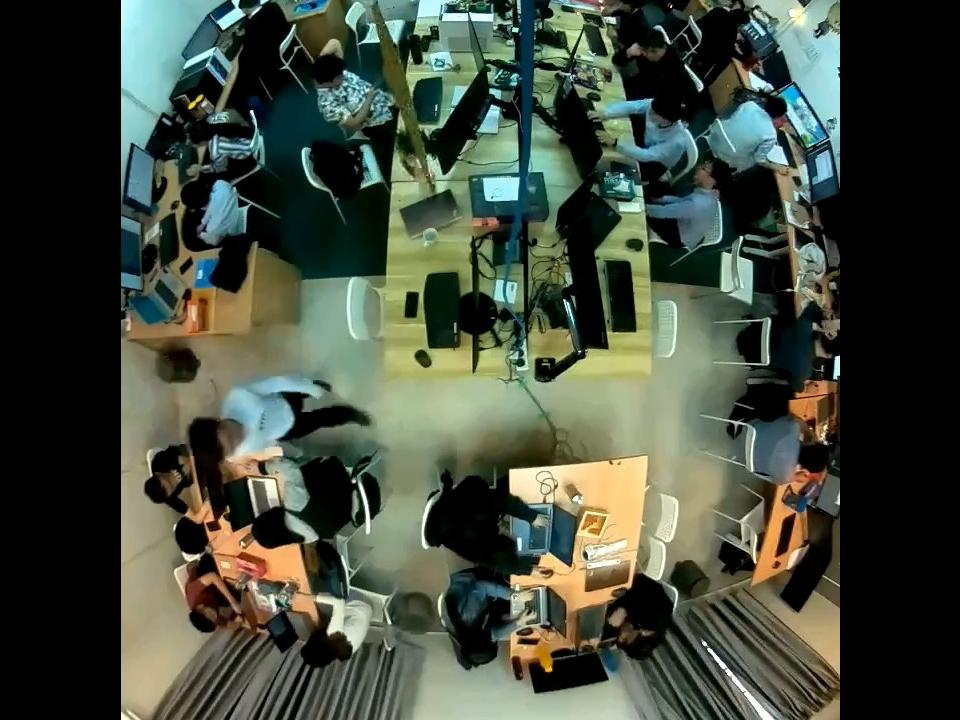name-tag: (255, 411, 266, 432)
